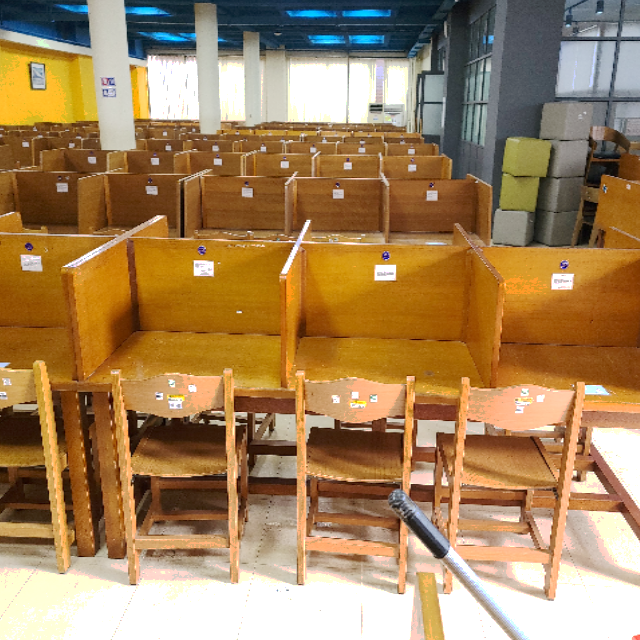empty: (289, 229, 490, 495), (75, 239, 281, 467), (495, 231, 640, 490)
